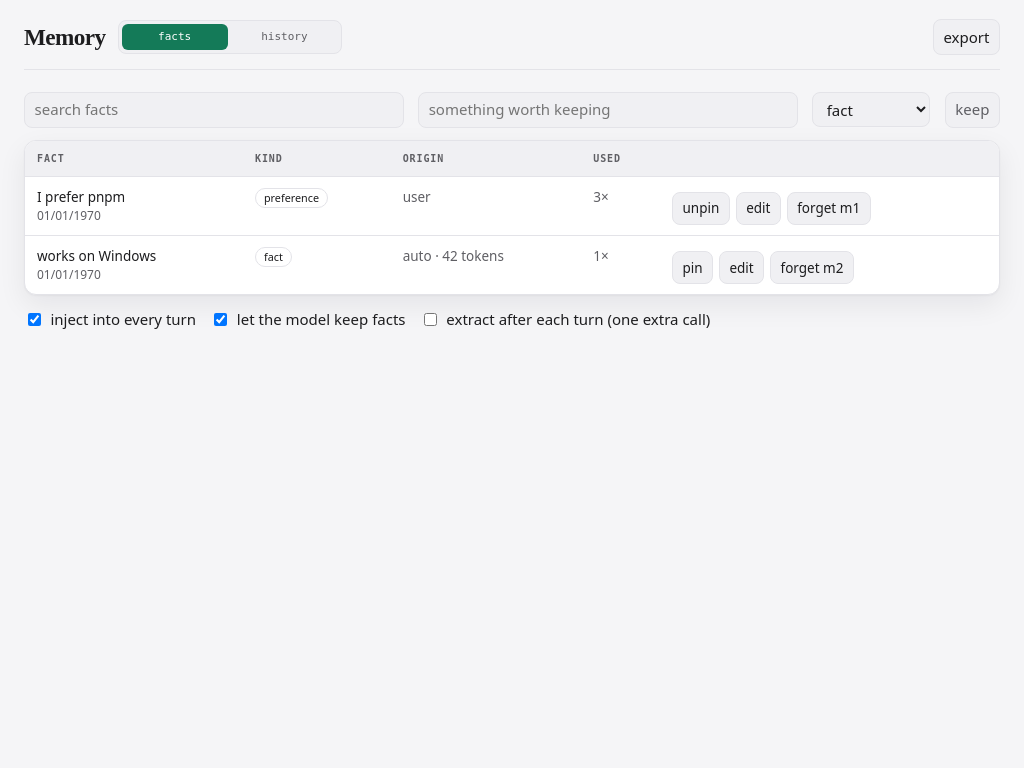
MemoryScreen › turns capture off through the switch and says what that removes
Expected: the text "I prefer pnpm" is shown, [37, 188, 125, 206]
Click the checkbox named "capture".
click(221, 319)  # box [214, 313, 227, 326]
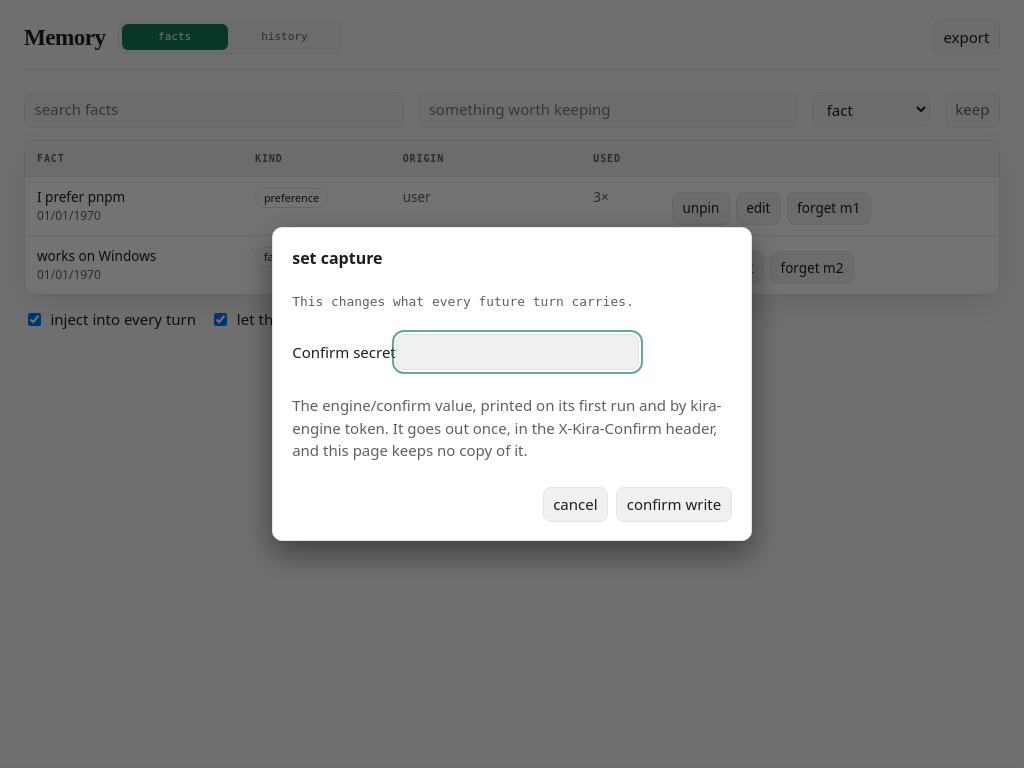
Type "fake-confirm" into the password field labelled "Confirm secret".
click(517, 352); type("fake-confirm")  # box [396, 334, 639, 370]
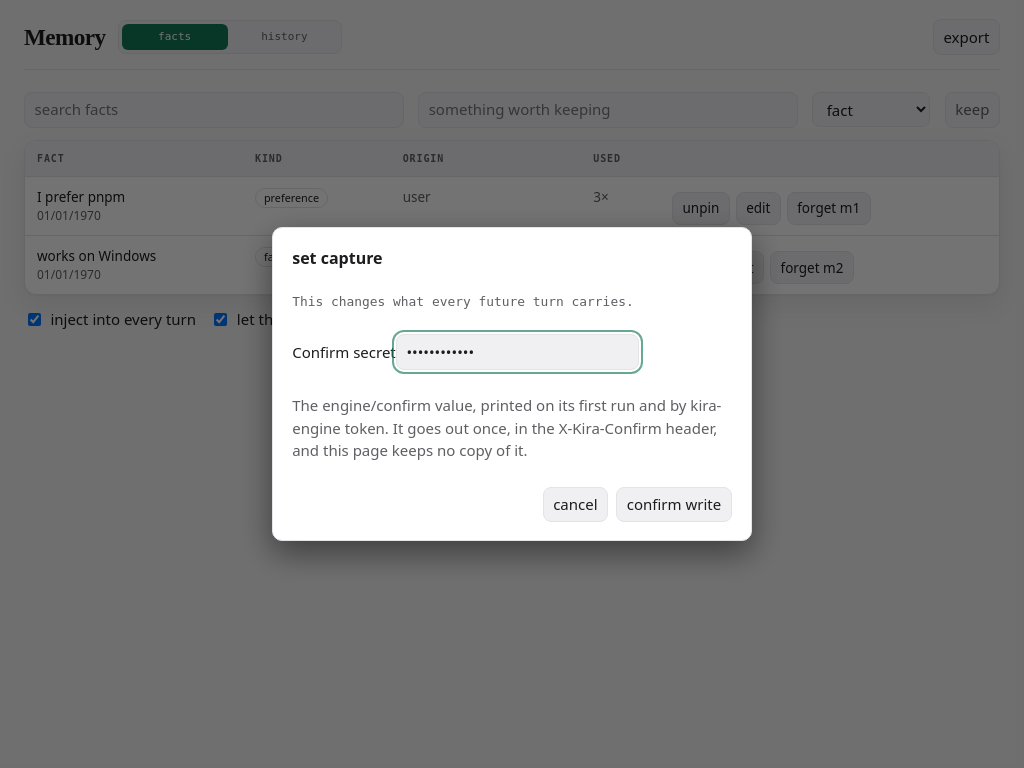
Click the button "confirm write".
click(674, 504)  # box [616, 486, 732, 522]
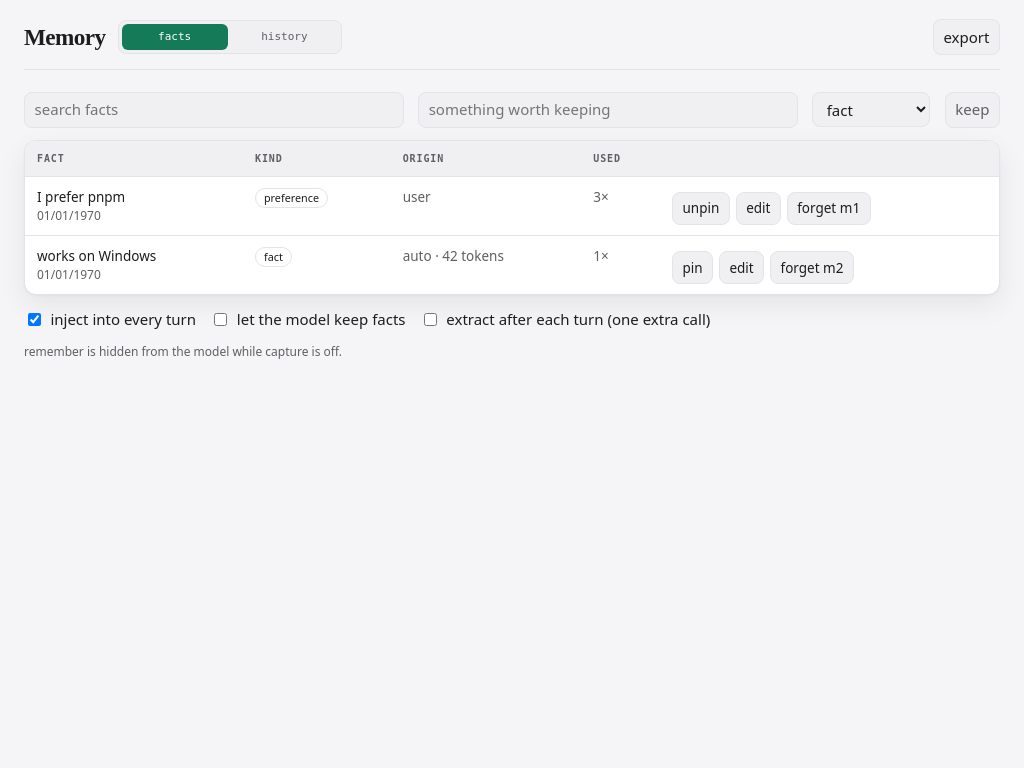
Expected: the text "remember is hidden from the model while capture is off." is shown, [24, 343, 342, 360]
